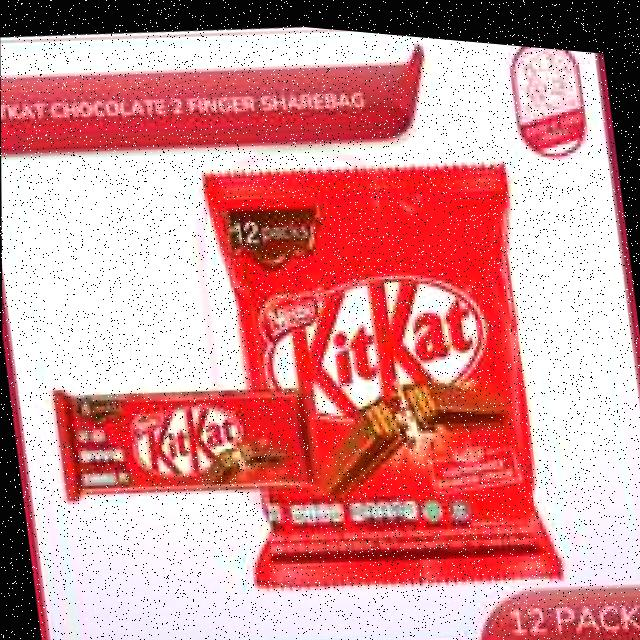kitkat: (202, 133, 564, 608), (47, 358, 314, 511)
